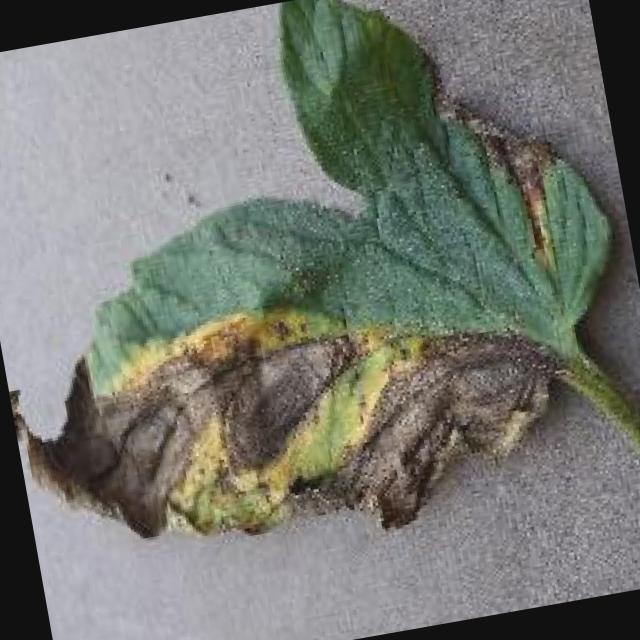leaf blight: (8, 0, 640, 545)
